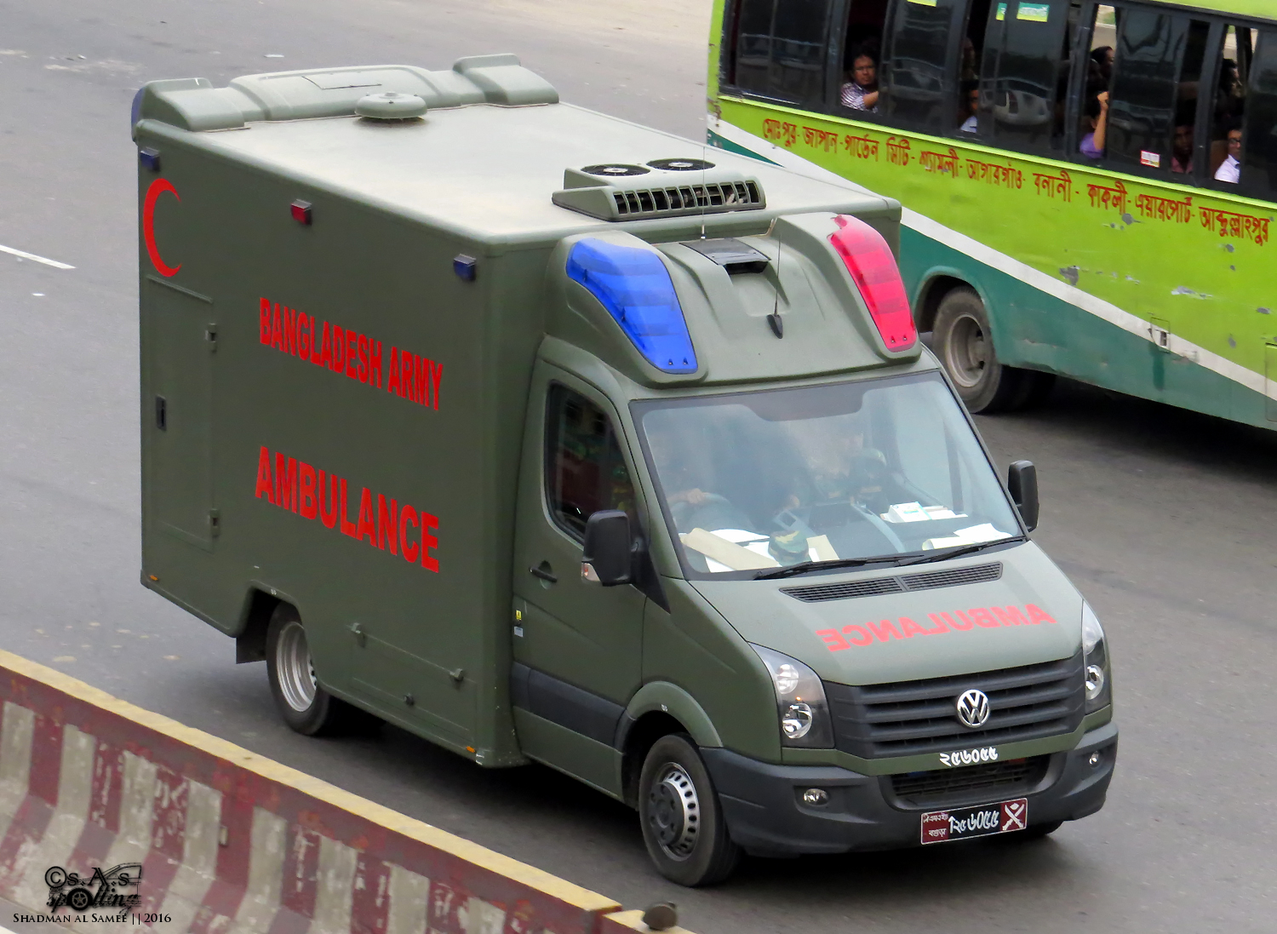Ambulance: (114, 52, 1140, 890)
